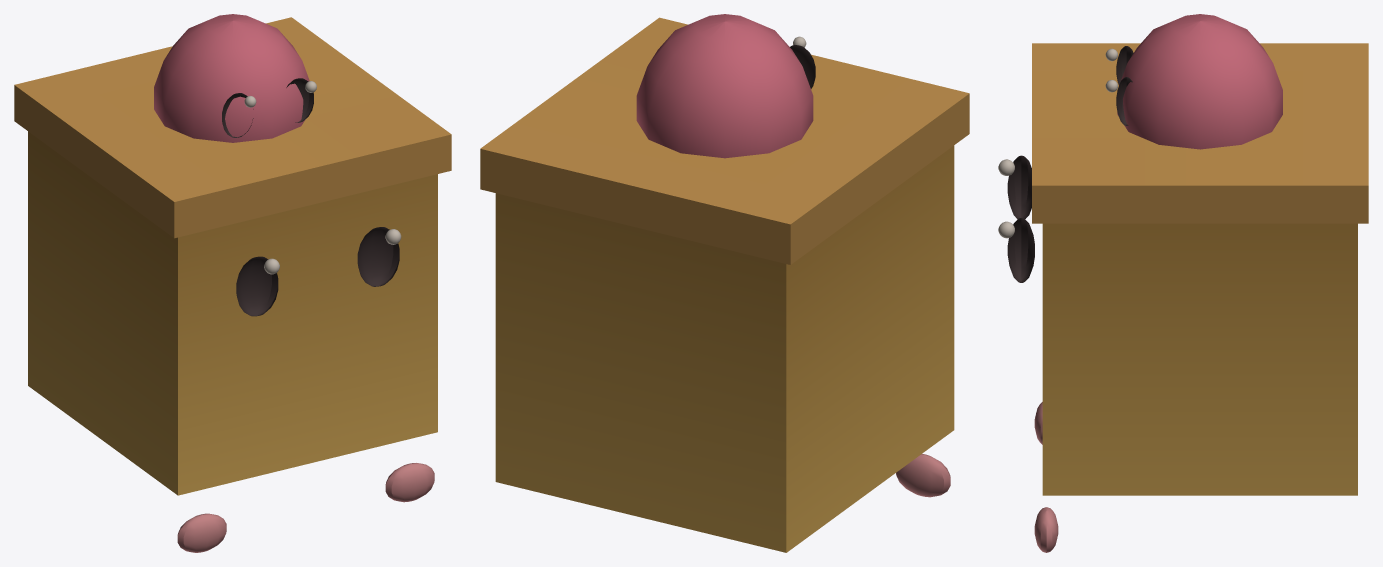
3 views of the same model, side by side, from view 1: azimuth 30°, elevation 25°; view 2: azimuth 150°, elevation 25°; view 3: azimuth 270°, elevation 25° (orthographic). The views are drawn at different scales.
Parts seen in each view (by area): view 1: pet_p11f70d7a; view 2: pet_p11f70d7a; view 3: pet_p11f70d7a.
Boxes of the visible parts, x1,y1,x2,y2 form: pet_p11f70d7a: [14, 14, 451, 552]; pet_p11f70d7a: [480, 14, 969, 552]; pet_p11f70d7a: [998, 14, 1368, 552].
Size of the model in its own units: 0.32 by 0.4982 by 0.3519.
